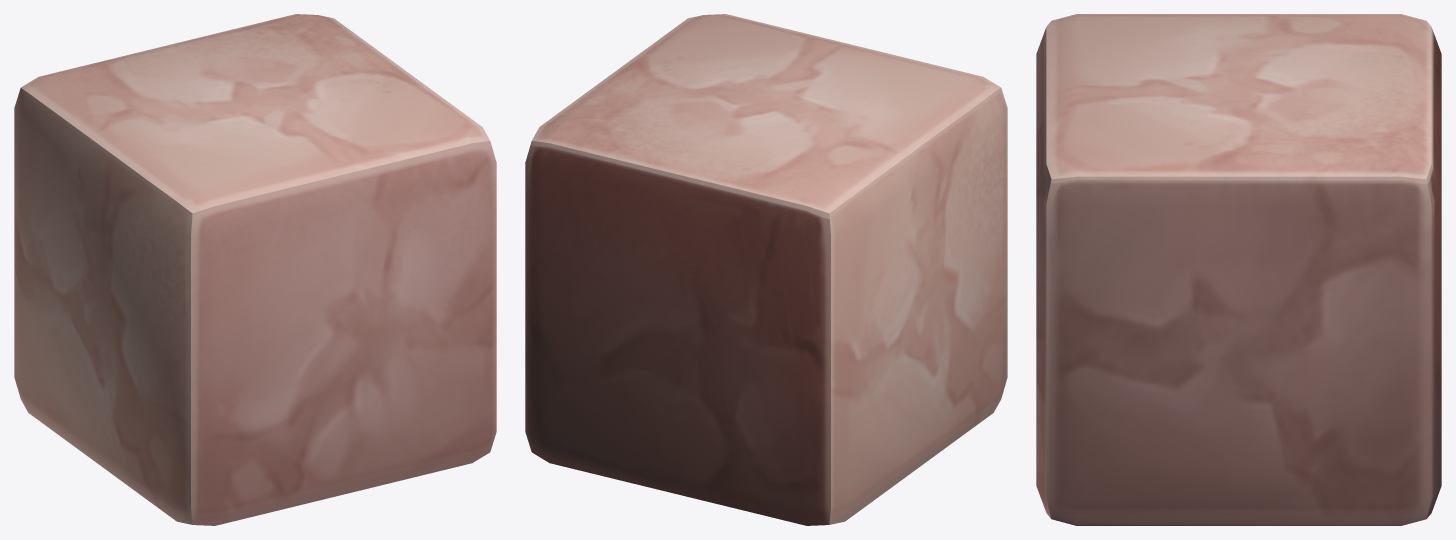
Rendered from new_ground1.FBX.
3 renders of one model, left to right at view 1: azimuth 30°, elevation 25°; view 2: azimuth 150°, elevation 25°; view 3: azimuth 270°, elevation 25°, orthographic. The views are drawn at different scales.
Visible parts, largest first — view 1: Ground001; view 2: Ground001; view 3: Ground001.
Boxes of the visible parts, <box> form: Ground001: <box>14,14,496,525</box>; Ground001: <box>525,14,1007,525</box>; Ground001: <box>1036,14,1441,525</box>.
Bounding box in the file's own units: 10 × 10 × 10.
